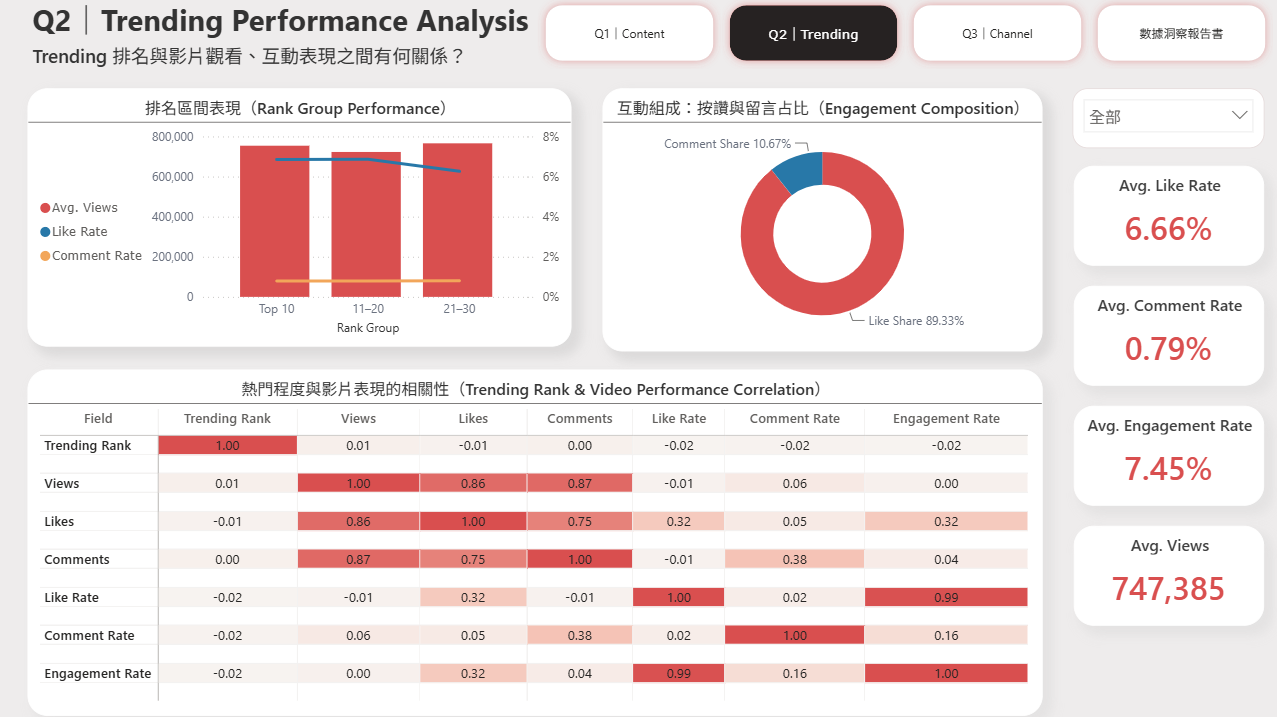

Layout of this report page (visuals, bound fields, positions):
{"tool":"powerbi","page":{"name":"Q2｜Trending ","canvas":[1280,720],"ordinal":1},"visuals":[{"type":"textbox","title":"Q2｜Trending Performance Analysis","box":[27.1,0,509.9,95.4],"z":0},{"type":"lineClusteredColumnComboChart","title":"排名區間表現（Rank Group Performance）","fields":{"Y":["Avg(youtube_trending_videos.Views)"],"Y2":["量值表.Like Rate","量值表.Comment Rate"],"Category":["Rank Group 排序表.Rank Group"]},"box":[27.1,91.5,544.2,258],"z":1000},{"type":"donutChart","title":"互動組成：按讚與留言占比（Engagement Composition）","fields":{"Y":["量值表.Like Share","量值表.Comment Share"]},"box":[602.1,91.5,439.6,263],"z":2000},{"type":"cardVisual","title":"Avg. Views","fields":{"Data":["Avg(youtube_trending_videos.Views)"]},"box":[1073.8,529.1,190.8,100.3],"z":3000},{"type":"cardVisual","title":"Avg. Like Rate","fields":{"Data":["量值表.Like Rate"]},"box":[1074.3,169.3,190.8,100.3],"z":4000},{"type":"cardVisual","title":"Avg. Comment Rate","fields":{"Data":["量值表.Comment Rate"]},"box":[1074.3,289.2,190.8,100.3],"z":5000},{"type":"cardVisual","title":"Avg. Engagement Rate","fields":{"Data":["量值表.Engagement Rate"]},"box":[1073.8,409.1,190.8,100.3],"z":6000},{"type":"pivotTable","title":"熱門程度與影片表現的相關性（Trending Rank & Video Performance Correlation）","fields":{"Rows":["Correlation Rows.Field"],"Columns":["Correlation Columns.Field"],"Values":["量值表.Correlation"]},"box":[26.9,373,1015,346.1],"z":7000},{"type":"pageNavigator","box":[537.6,0,737.5,72.2],"z":8000},{"type":"slicer","fields":{"Values":["youtube_categories.Category_Name"]},"box":[1072.4,90.9,191.8,60],"z":9000}]}

Visuals, with their boxes in screenshot pixels (x1, y1, x2, y2), scaled from the page's 1280x720 canvas onto the 1277x717 screenshot:
"Q2｜Trending Performance Analysis" textbox: <bbox>27, 0, 536, 95</bbox>
"排名區間表現（Rank Group Performance）" lineClusteredColumnComboChart: <bbox>27, 91, 570, 348</bbox>
"互動組成：按讚與留言占比（Engagement Composition）" donutChart: <bbox>601, 91, 1039, 353</bbox>
"Avg. Views" cardVisual: <bbox>1071, 527, 1262, 627</bbox>
"Avg. Like Rate" cardVisual: <bbox>1072, 169, 1262, 268</bbox>
"Avg. Comment Rate" cardVisual: <bbox>1072, 288, 1262, 388</bbox>
"Avg. Engagement Rate" cardVisual: <bbox>1071, 407, 1262, 507</bbox>
"熱門程度與影片表現的相關性（Trending Rank & Video Performance Correlation）" pivotTable: <bbox>27, 371, 1039, 716</bbox>
pageNavigator: <bbox>536, 0, 1272, 72</bbox>
slicer - youtube_categories.Category_Name: <bbox>1070, 91, 1261, 150</bbox>
